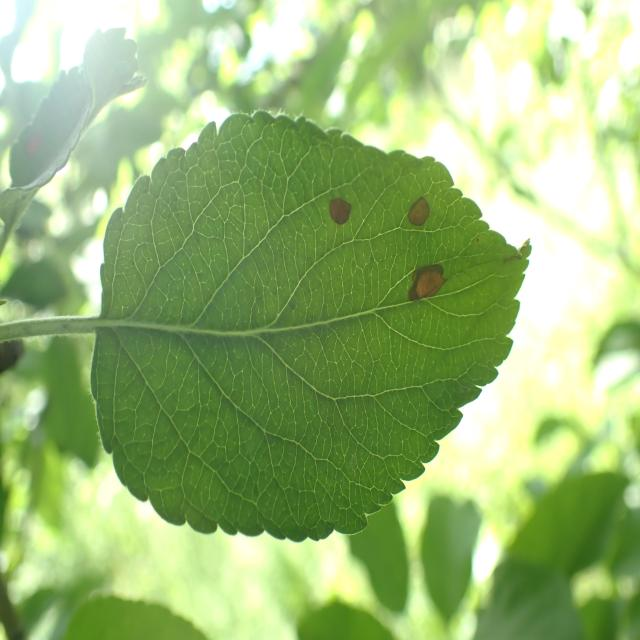Black Rot: (402, 254, 452, 334), (399, 190, 449, 245), (318, 184, 359, 250)
